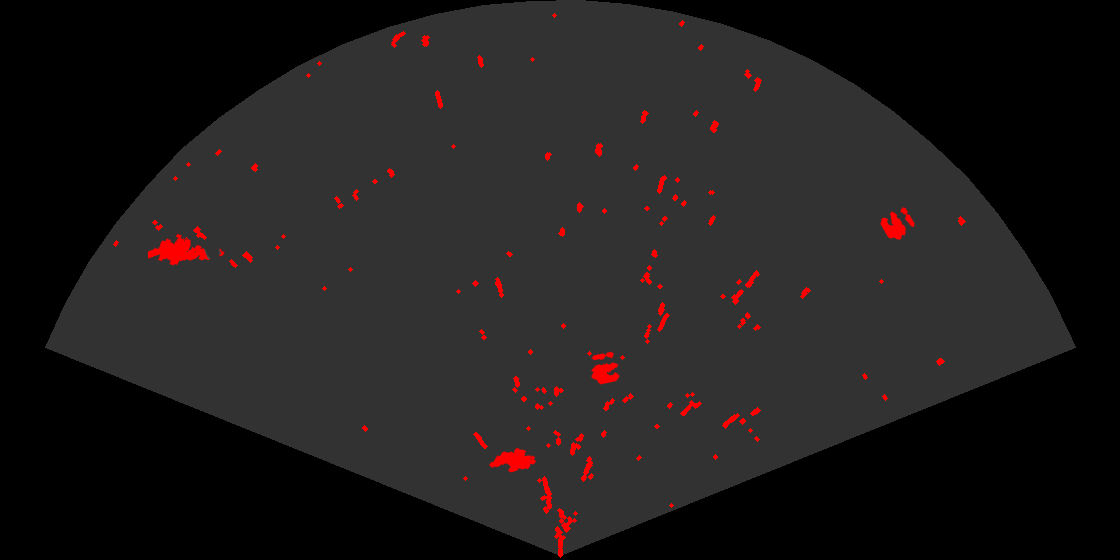AUV: (488, 446, 538, 474)
ball: (879, 206, 916, 241), (590, 350, 621, 386)
frogman: (148, 232, 226, 267)
